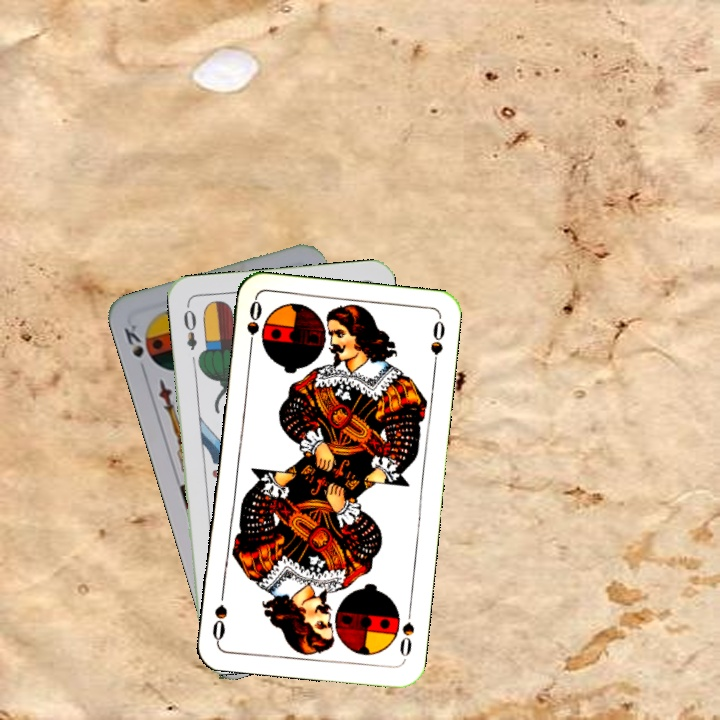EO: (179, 301, 199, 353)
SK: (120, 320, 149, 377)
SO: (395, 604, 417, 663), (243, 296, 264, 355)
